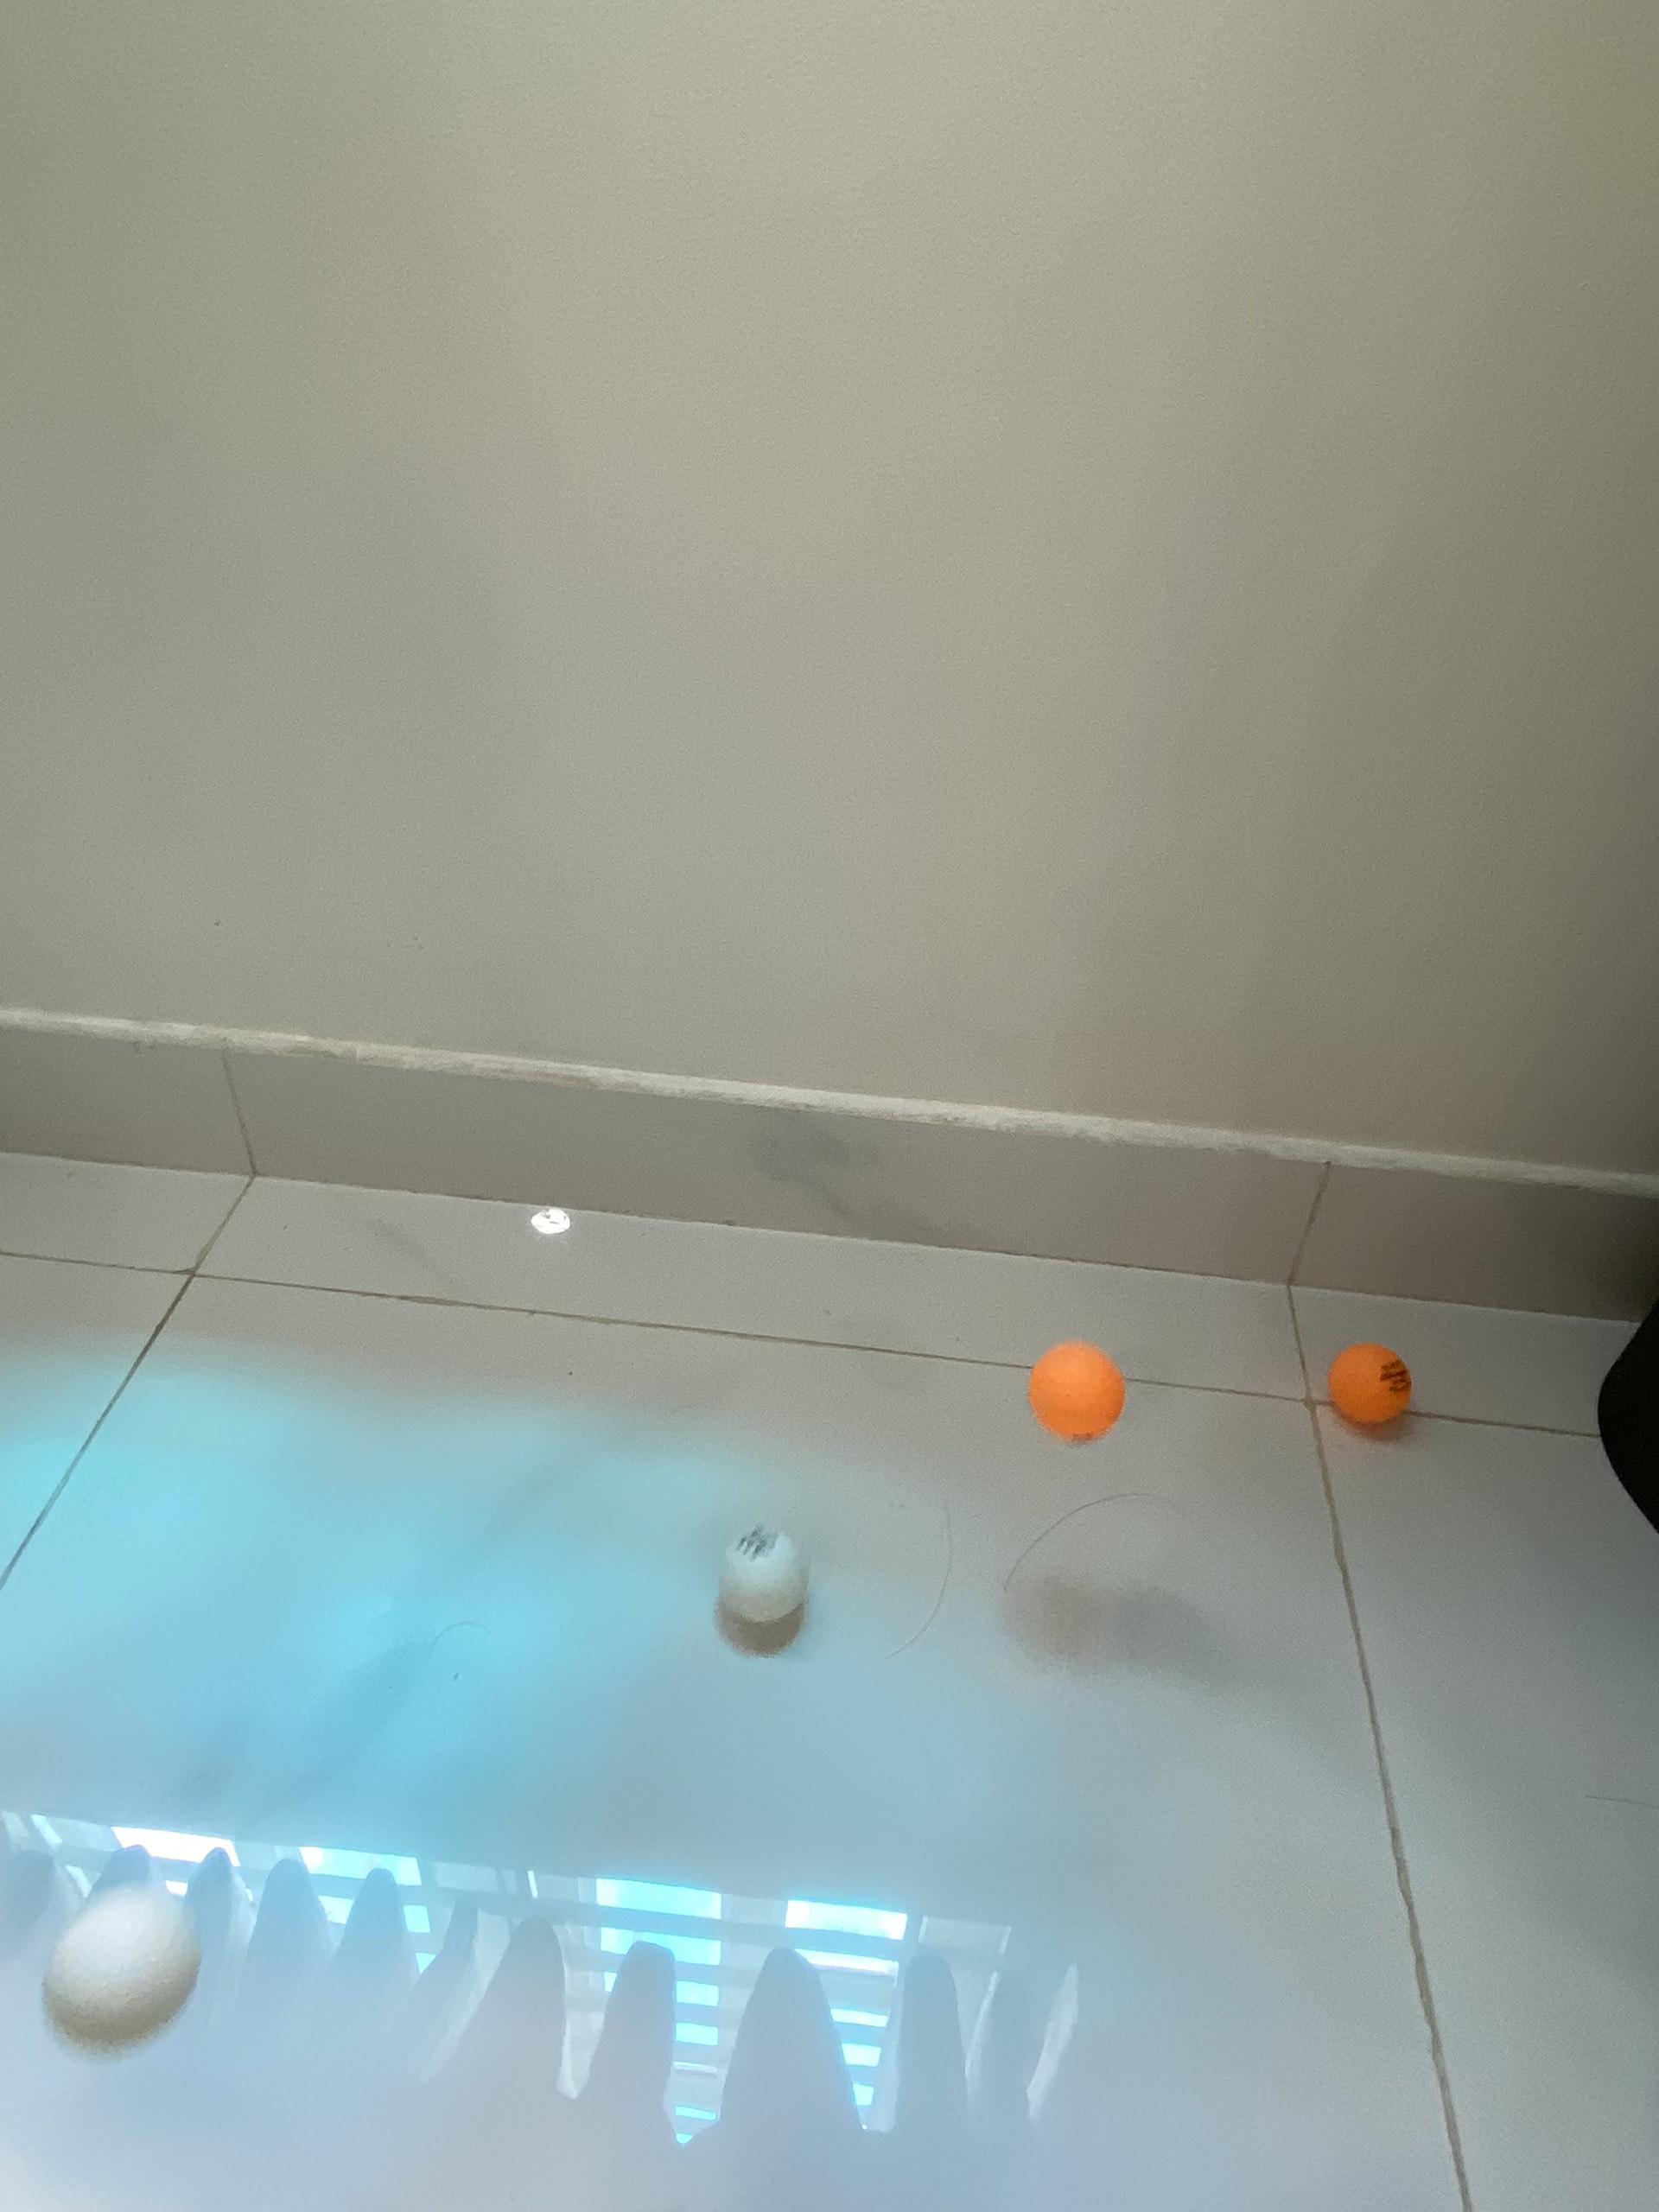oball: (1025, 1343, 1129, 1446), (1324, 1339, 1415, 1426)
